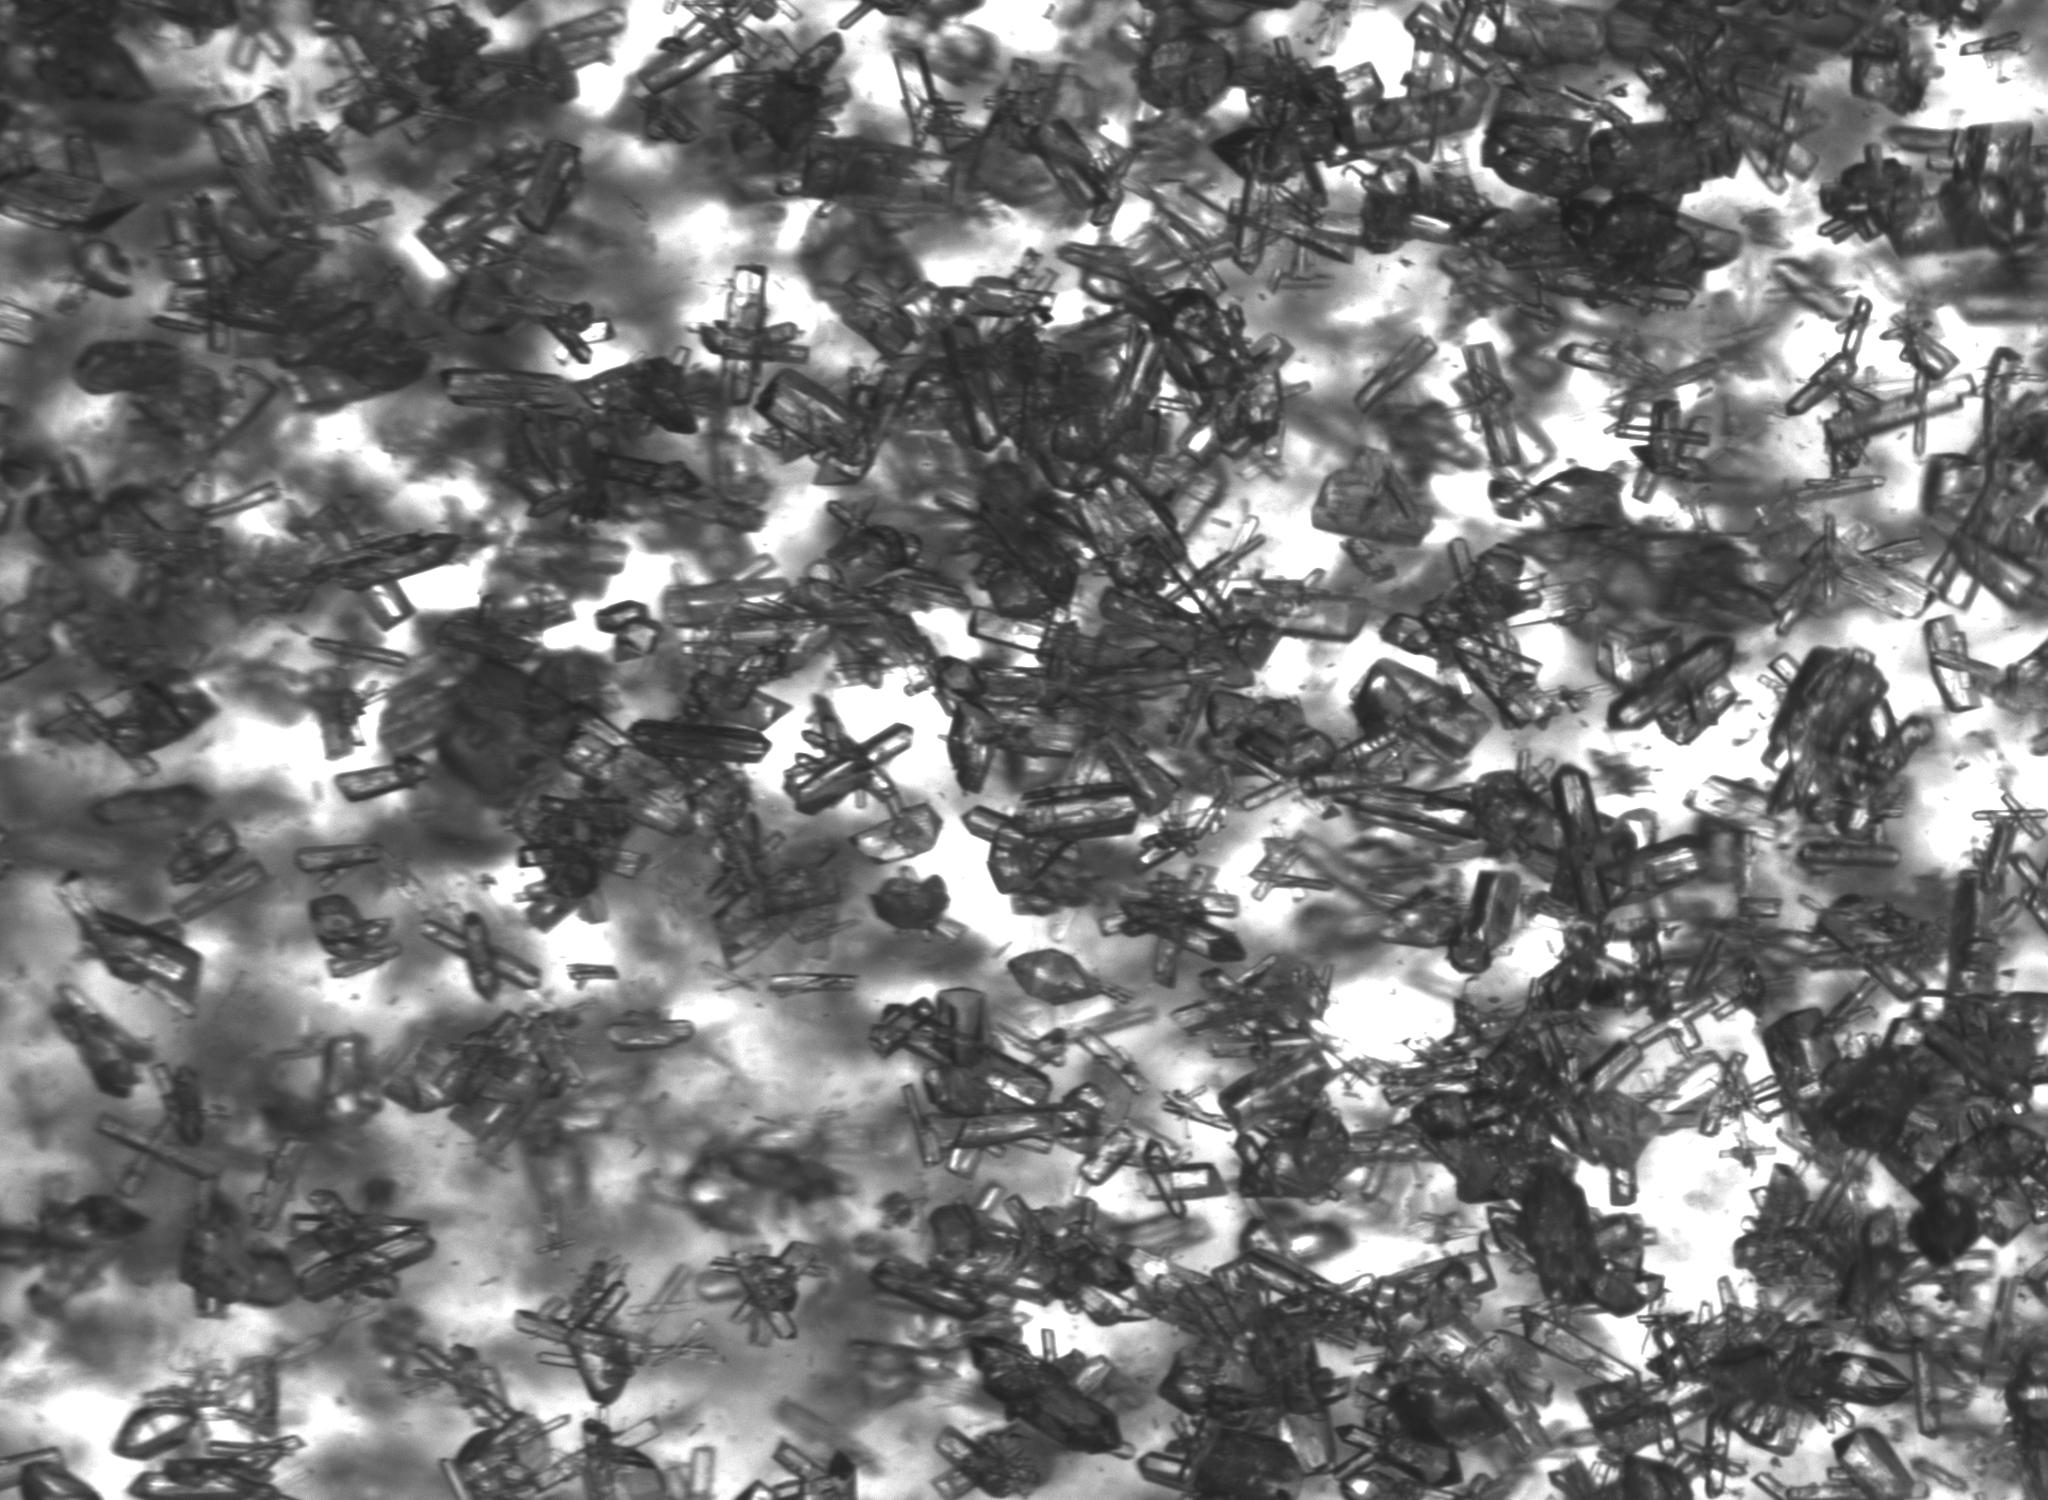crystal: (933, 589, 1274, 792), (1798, 991, 2048, 1261), (1310, 765, 1705, 923), (1213, 0, 1514, 181), (1477, 103, 1740, 310), (668, 514, 968, 682), (378, 603, 611, 806), (1643, 1277, 1906, 1455), (1410, 1012, 1652, 1204), (1138, 1266, 1336, 1500), (875, 1187, 1191, 1323), (871, 988, 1105, 1172), (930, 317, 1166, 493), (447, 358, 700, 515), (800, 212, 1061, 358), (1382, 539, 1577, 729), (1332, 1323, 1536, 1500), (1921, 348, 2048, 611), (1762, 647, 1927, 840), (1821, 122, 2048, 256), (1118, 285, 1291, 458), (517, 1261, 714, 1408), (1735, 1156, 1916, 1315), (784, 695, 943, 864), (1491, 1163, 1660, 1317), (383, 1013, 576, 1147), (1239, 1252, 1493, 1350), (1786, 348, 1976, 476), (418, 1344, 572, 1500), (970, 67, 1118, 224), (51, 870, 204, 1020), (1059, 181, 1240, 307), (1606, 0, 1800, 116), (1946, 792, 2048, 994), (304, 504, 464, 631), (514, 778, 644, 931), (968, 1328, 1126, 1454), (1220, 1050, 1350, 1199), (964, 460, 1084, 617), (94, 1064, 226, 1201), (207, 91, 324, 240), (711, 30, 855, 150), (1110, 864, 1247, 986), (1173, 956, 1331, 1061), (286, 1191, 436, 1301), (417, 146, 545, 274), (698, 264, 811, 407), (1779, 519, 1926, 627), (964, 806, 1099, 916), (180, 1190, 297, 1315), (771, 134, 960, 212), (1608, 635, 1738, 744), (1805, 894, 1943, 997), (1350, 659, 1487, 762), (1228, 165, 1360, 272), (1072, 477, 1191, 592), (1360, 159, 1495, 253), (701, 1242, 825, 1344), (752, 367, 876, 469), (1312, 449, 1437, 546), (51, 986, 156, 1098), (386, 5, 493, 111), (576, 1419, 716, 1500), (1639, 1048, 1768, 1136), (205, 237, 321, 334), (1200, 695, 1340, 775), (127, 1436, 301, 1500), (0, 164, 146, 239), (1452, 342, 1533, 472), (421, 913, 542, 1001), (1786, 1425, 1926, 1500), (1614, 398, 1711, 503), (1216, 577, 1372, 643), (1507, 1306, 1639, 1382), (894, 46, 981, 159), (75, 678, 192, 760), (634, 11, 747, 97), (1488, 464, 1630, 527), (1574, 1374, 1681, 1455), (1013, 779, 1151, 840), (1135, 32, 1232, 116), (933, 1427, 1043, 1500), (1447, 870, 1523, 975), (308, 894, 401, 978), (1922, 614, 2000, 713), (1007, 948, 1134, 1007), (1375, 1037, 1479, 1109), (162, 192, 226, 309), (1760, 1005, 1837, 1101), (1550, 1449, 1692, 1500), (1138, 1139, 1226, 1220), (514, 140, 584, 240), (871, 870, 968, 942), (1353, 334, 1439, 414), (334, 329, 437, 393), (692, 668, 795, 732), (738, 1446, 859, 1500), (41, 1191, 151, 1250), (172, 859, 270, 924), (626, 719, 774, 762), (1665, 1422, 1749, 1497), (73, 339, 181, 396), (1883, 312, 1959, 385), (246, 1137, 307, 1230), (113, 1398, 202, 1460), (167, 816, 243, 888), (1140, 805, 1223, 870), (447, 267, 522, 339), (542, 6, 626, 68), (340, 75, 425, 135), (91, 784, 213, 826), (541, 302, 615, 366), (334, 754, 431, 802), (596, 600, 661, 663), (1076, 1034, 1143, 1096), (72, 242, 137, 301), (1080, 1126, 1145, 1185), (607, 1010, 698, 1051), (296, 843, 385, 881), (19, 1462, 103, 1500), (968, 609, 1043, 652), (1790, 471, 1883, 504), (0, 1446, 67, 1490), (1164, 1091, 1234, 1131), (310, 638, 410, 665), (760, 970, 859, 997), (0, 297, 46, 350), (1837, 293, 1873, 356), (1555, 339, 1616, 375), (566, 961, 620, 989), (1094, 1083, 1113, 1101)
